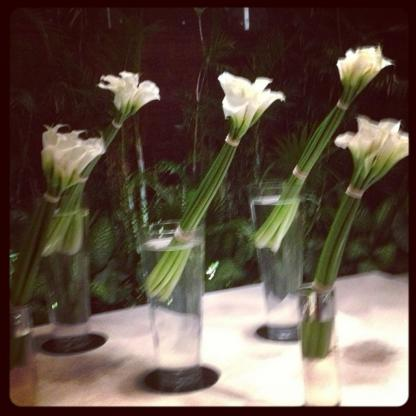vase: (137, 218, 205, 388), (244, 180, 306, 340), (38, 209, 89, 336), (294, 280, 338, 407), (6, 305, 38, 412)
